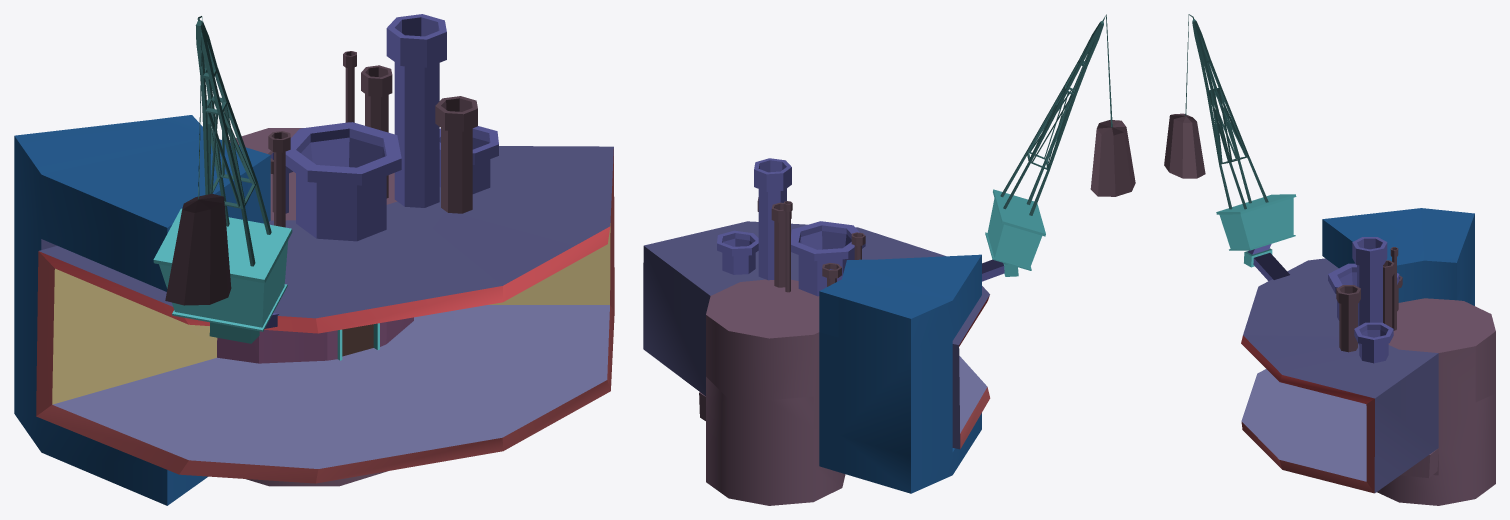
Rendered from F_OrientationFloor.FBX.
3 renders of one model, left to right at view 1: azimuth 30°, elevation 25°; view 2: azimuth 150°, elevation 25°; view 3: azimuth 270°, elevation 25°, orthographic. The views are drawn at different scales.
Visible parts, largest first — view 1: New Orintation; view 2: New Orintation; view 3: New Orintation.
Part boxes in pixels (bbox=[...]): New Orintation: bbox=[14, 14, 614, 505]; New Orintation: bbox=[643, 14, 1135, 505]; New Orintation: bbox=[1164, 14, 1495, 505].
Size of the model in its own units: 3563 by 2909 by 3642.
1 material, 1 textured.
